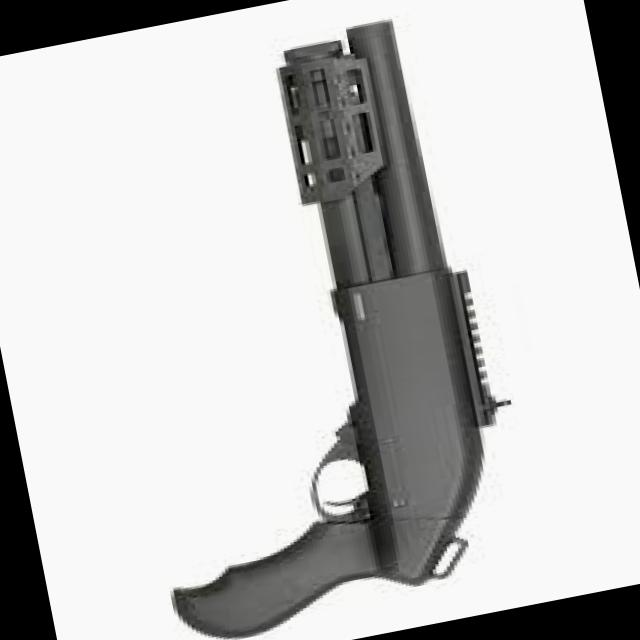long weapon: (113, 2, 547, 640)
